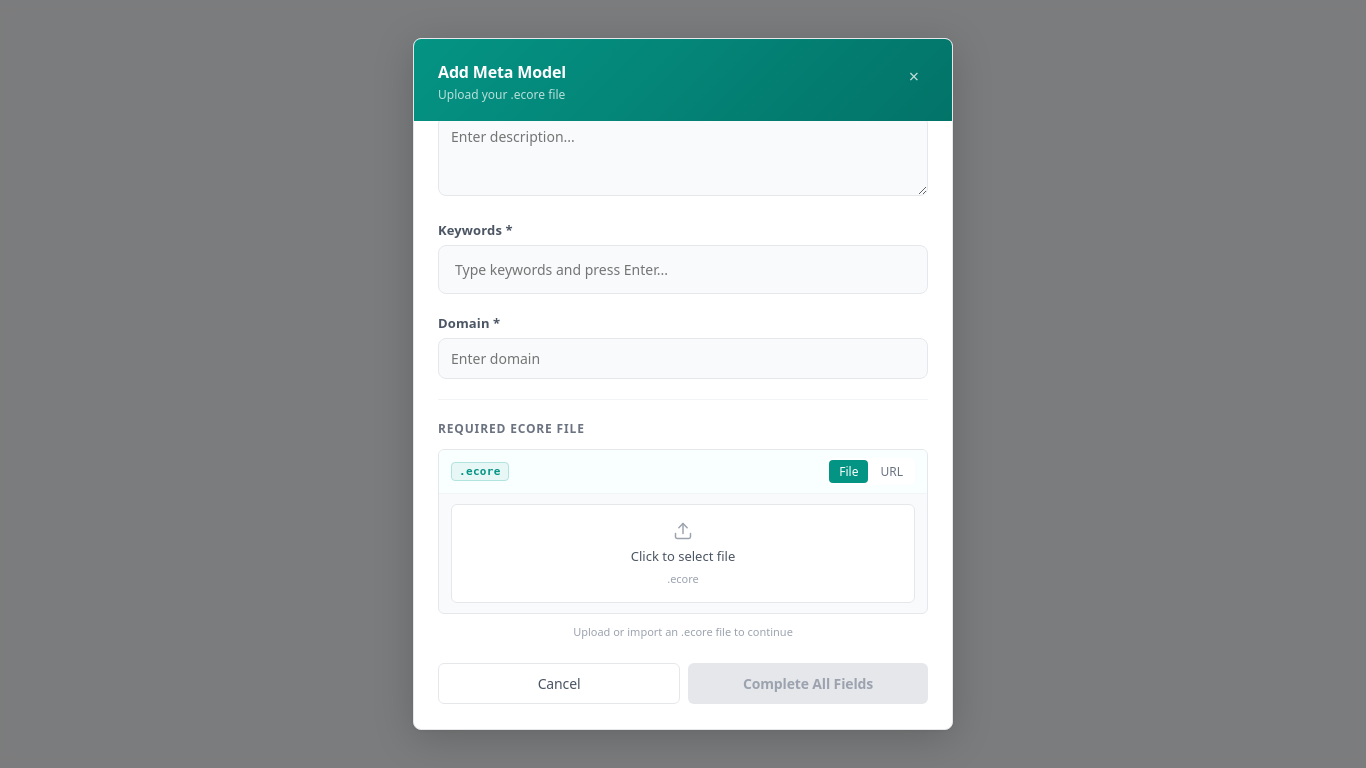
it: CreateModelModal › URL import mode › shows a URL input when switching .ecore card to URL mode
(page scrolled)
Step 1. Click the button "URL" → x=892, y=472, box 870,460 -> 913,483
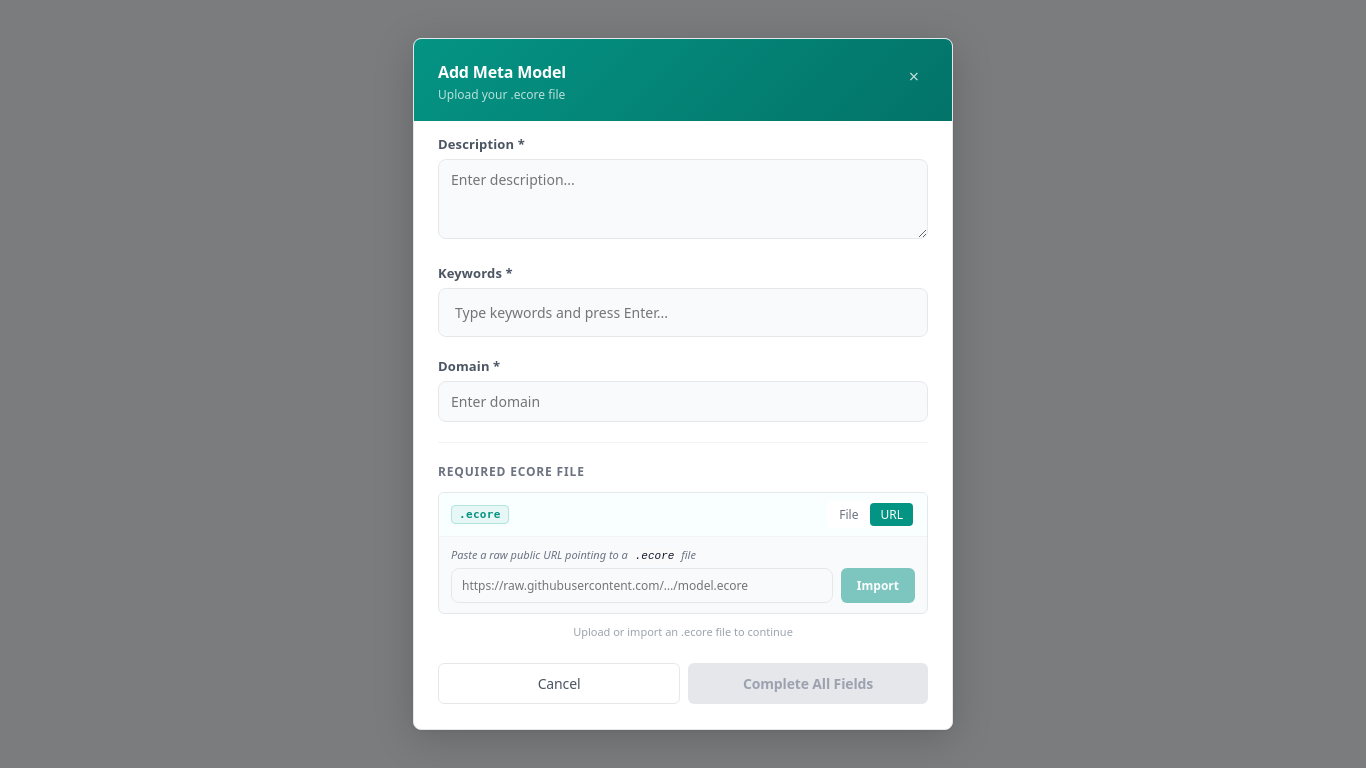
Check: the field with placeholder "https://raw.githubusercontent.com/…/model.ecore" is shown, box 451,568 -> 833,603
